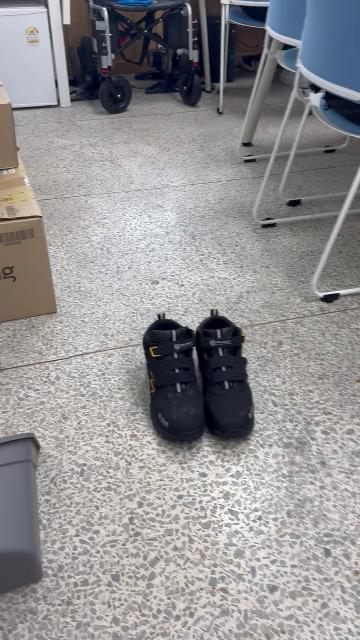shoe_worn: (192, 308, 259, 441), (143, 312, 207, 443)
